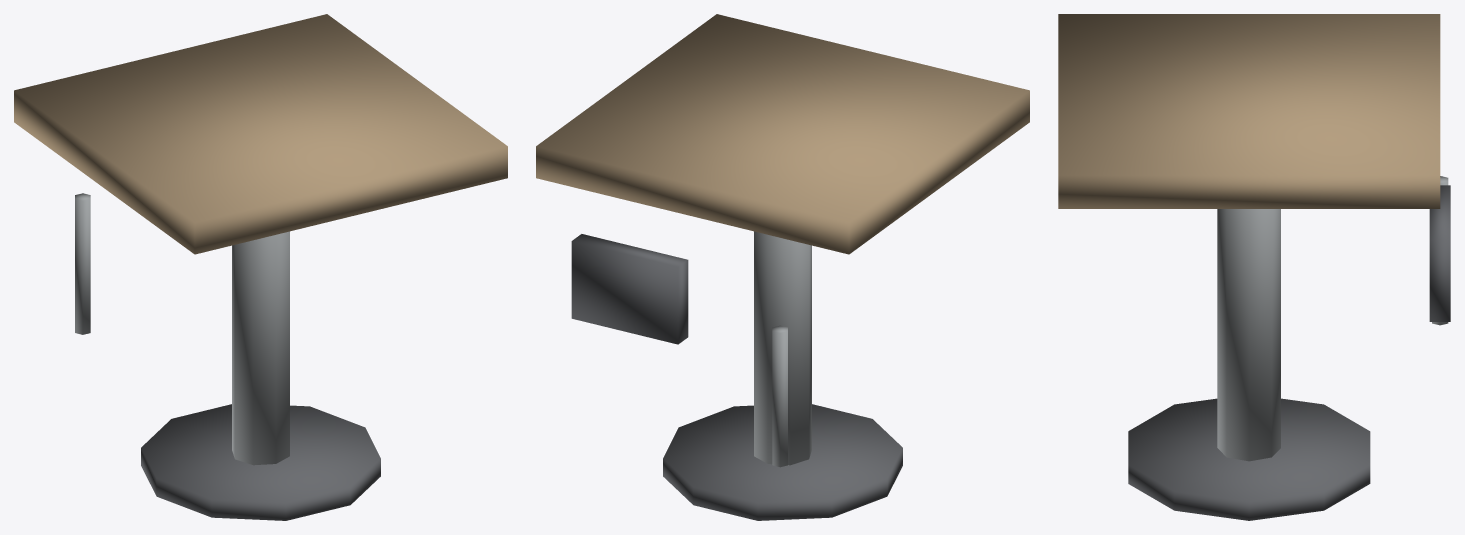
Rendered from diner_two_top__service.glb.
The picture shows the model from 3 angles, left to right: view 1: azimuth 30°, elevation 25°; view 2: azimuth 150°, elevation 25°; view 3: azimuth 270°, elevation 25°; orthographic projection. The views are drawn at different scales.
Visible parts, largest first — view 1: world; view 2: world; view 3: world.
Boxes of the visible parts, <box> form: world: <box>14,14,507,520</box>; world: <box>536,14,1029,520</box>; world: <box>1058,14,1450,520</box>.
Bounding box in the file's own units: 0.72 × 0.775 × 0.7398.
